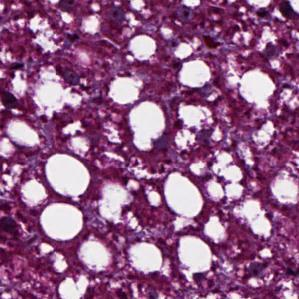steatosis: (159, 171, 206, 222), (35, 203, 85, 240), (46, 152, 89, 195)
